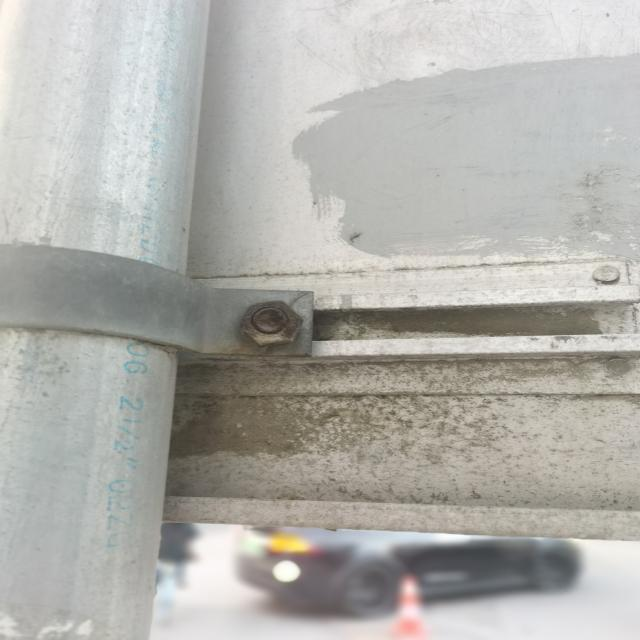bolt nut: (239, 299, 304, 348)
